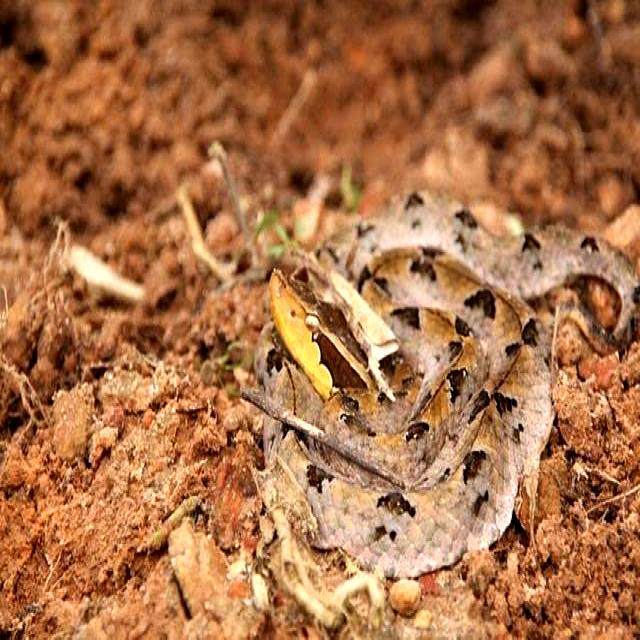Calloselasma rhodostoma: (256, 194, 639, 577)
